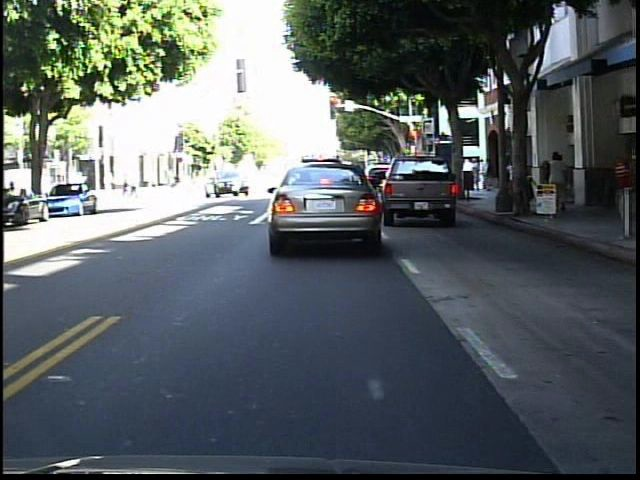person: (545, 151, 570, 209), (559, 152, 573, 206)
